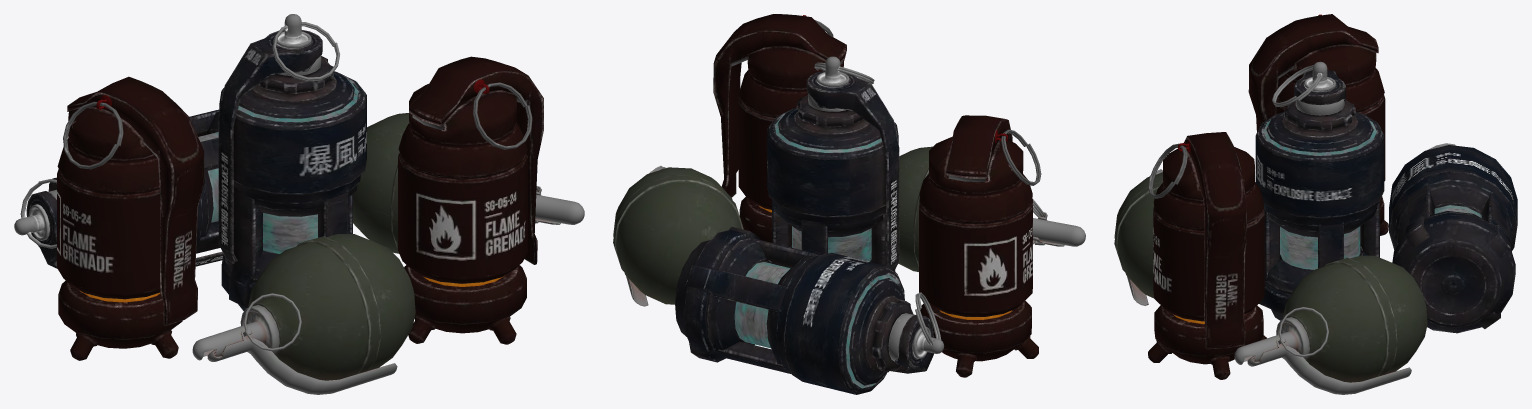
The model's file is grenades.glb.
The picture shows the model from 3 angles, left to right: view 1: azimuth 30°, elevation 25°; view 2: azimuth 150°, elevation 25°; view 3: azimuth 270°, elevation 25°; orthographic projection. The views are drawn at different scales.
Visible parts, largest first — view 1: Object_9, Object_5, Object_8, Object_3, Object_7, Object_6, Object_4, Object_10; view 2: Object_5, Object_9, Object_8, Object_6, Object_7, Object_3, Object_4; view 3: Object_5, Object_9, Object_8, Object_3, Object_6, Object_7, Object_4.
Part boxes in pixels (<box>): Object_9: <box>57,56,543,360</box>; Object_5: <box>26,30,366,310</box>; Object_8: <box>248,113,415,380</box>; Object_3: <box>192,186,584,394</box>; Object_7: <box>14,14,339,248</box>; Object_6: <box>198,80,358,253</box>; Object_4: <box>63,82,532,169</box>; Object_10: <box>80,275,504,302</box>; Object_5: <box>675,70,934,394</box>; Object_9: <box>713,14,1038,377</box>; Object_8: <box>613,146,932,304</box>; Object_6: <box>734,115,898,388</box>; Object_7: <box>808,56,944,361</box>; Object_3: <box>626,166,1085,306</box>; Object_4: <box>731,20,1041,185</box>; Object_5: <box>1255,70,1517,333</box>; Object_9: <box>1148,14,1388,379</box>; Object_8: <box>1114,172,1427,382</box>; Object_3: <box>1127,169,1411,394</box>; Object_6: <box>1263,120,1481,269</box>; Object_7: <box>1272,61,1455,150</box>; Object_4: <box>1148,66,1294,198</box>.
Size of the model in its own units: 105 by 61.84 by 90.12.
Materials: 9 (8 with a texture image).
